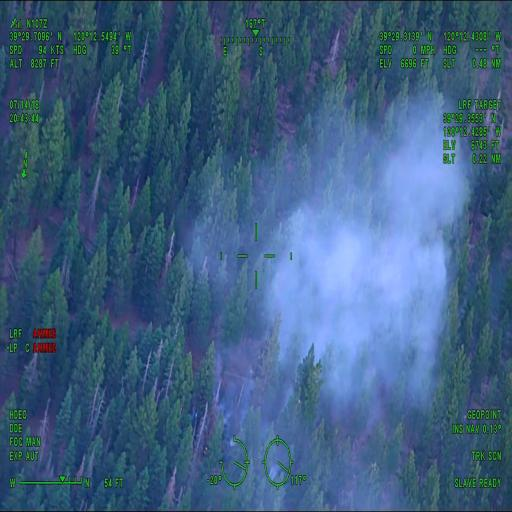smoke: (324, 198, 432, 361)
